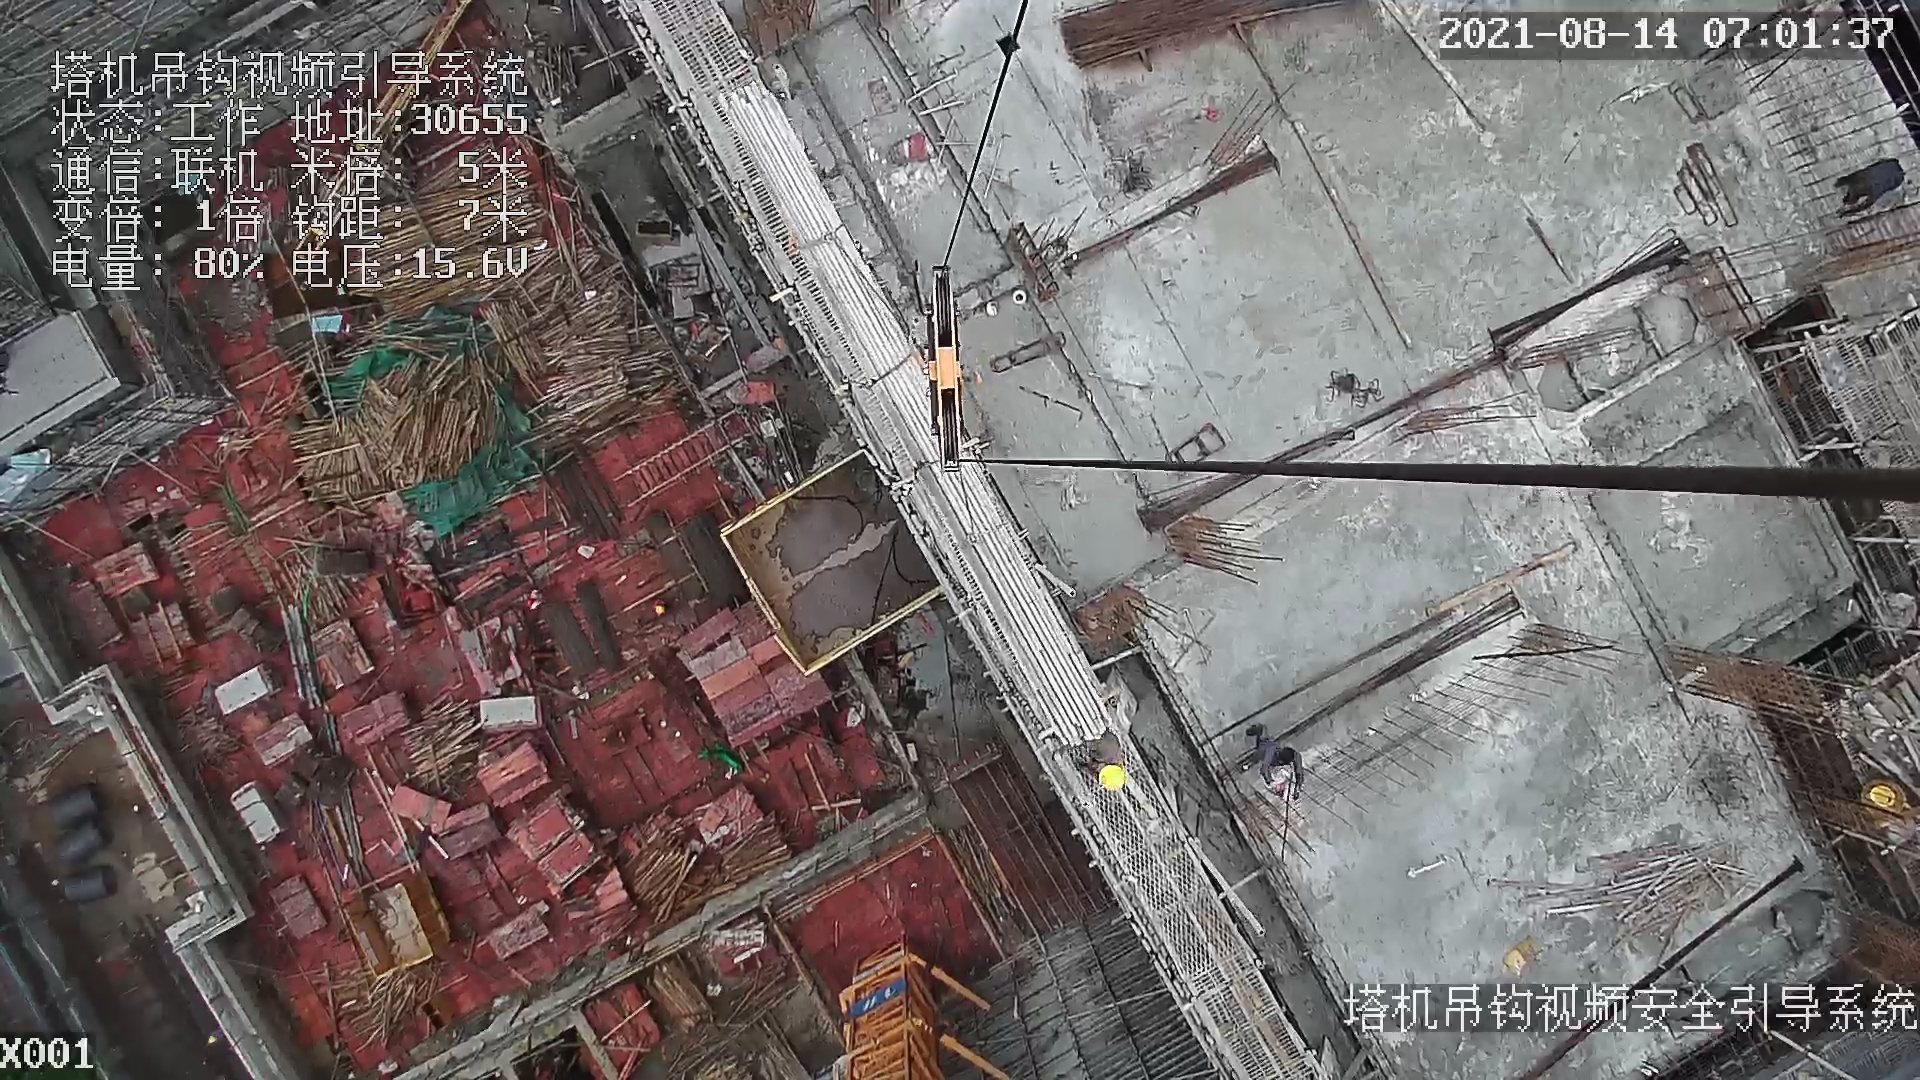helmet: (1093, 760, 1125, 795)
hook: (913, 258, 970, 477)
person: (1821, 145, 1920, 223), (1247, 718, 1313, 808), (1068, 723, 1132, 796)
